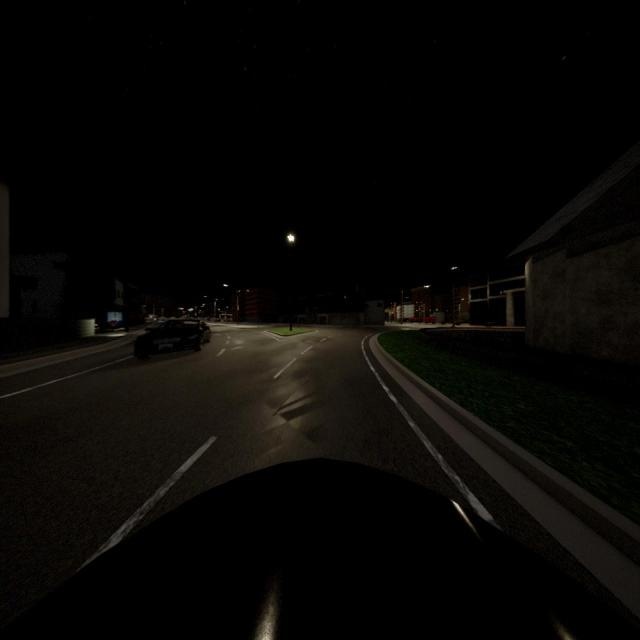Vehicle: (0, 462, 640, 638), (134, 320, 211, 354), (424, 316, 436, 324), (408, 316, 418, 322)
